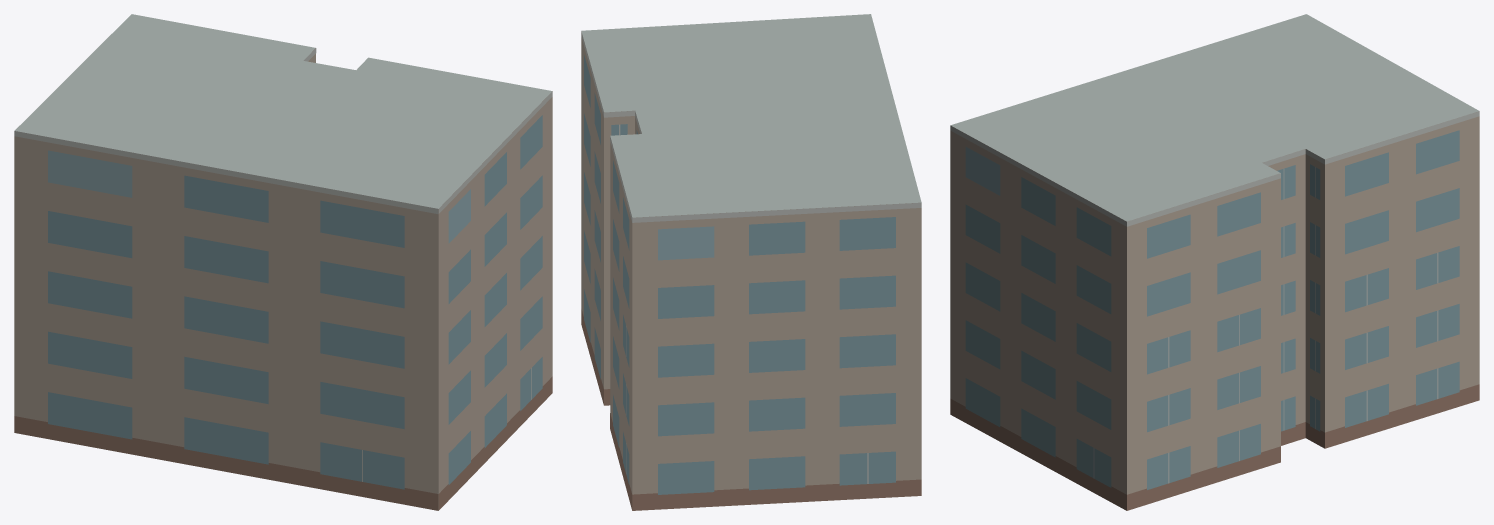
The model's file is survey-upis-33002674.glb.
3 renders of one model, left to right at view 1: azimuth 30°, elevation 25°; view 2: azimuth 150°, elevation 25°; view 3: azimuth 270°, elevation 25°, orthographic. The views are drawn at different scales.
Parts seen in each view (by area): view 1: survey-upis-33002674.tmp; view 2: survey-upis-33002674.tmp; view 3: survey-upis-33002674.tmp.
Boxes of the visible parts, left/top/right/bottom form: survey-upis-33002674.tmp: left=14, top=14, right=552, bottom=510; survey-upis-33002674.tmp: left=581, top=14, right=921, bottom=510; survey-upis-33002674.tmp: left=950, top=14, right=1479, bottom=510.
Size of the model in its own units: 20.95 by 13.6 by 22.57.
